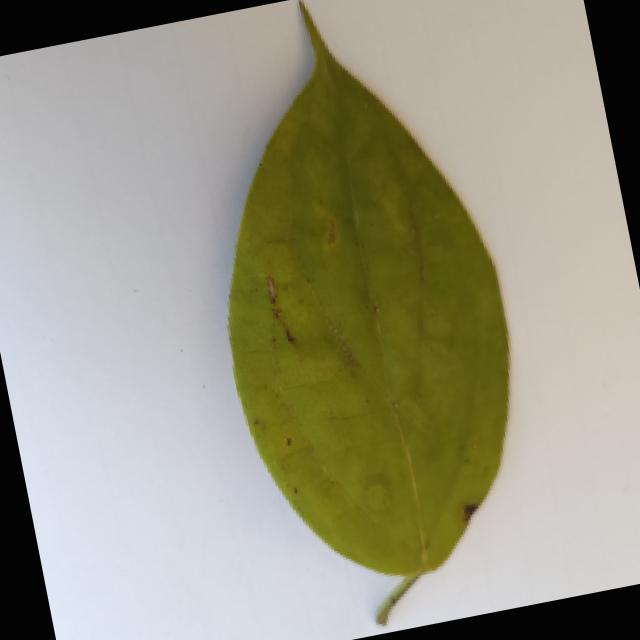slow-decline: (164, 0, 555, 628)
